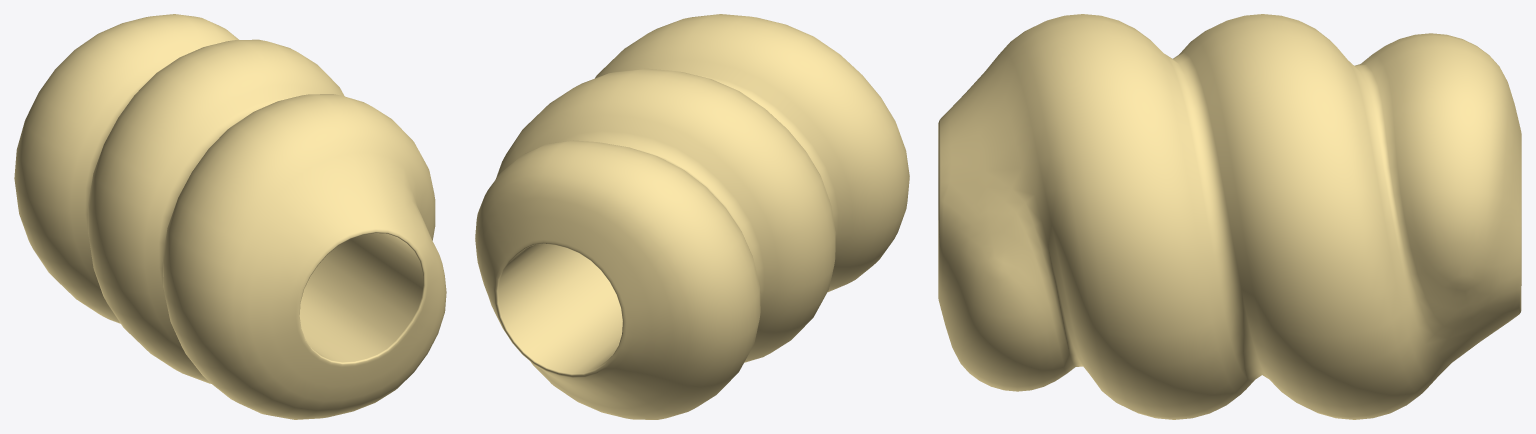
File: Admire_8mm.glb
The picture shows the model from 3 angles, left to right: view 1: azimuth 30°, elevation 25°; view 2: azimuth 150°, elevation 25°; view 3: azimuth 270°, elevation 25°; orthographic projection. The views are drawn at different scales.
Parts seen in each view (by area): view 1: Admire; view 2: Admire; view 3: Admire.
Part boxes in pixels (x1,y1,x2,y2): Admire: (14, 14, 446, 419); Admire: (475, 14, 909, 419); Admire: (938, 14, 1521, 419).
Bounding box in the file's own units: 0.00634 × 0.00634 × 0.00917.
